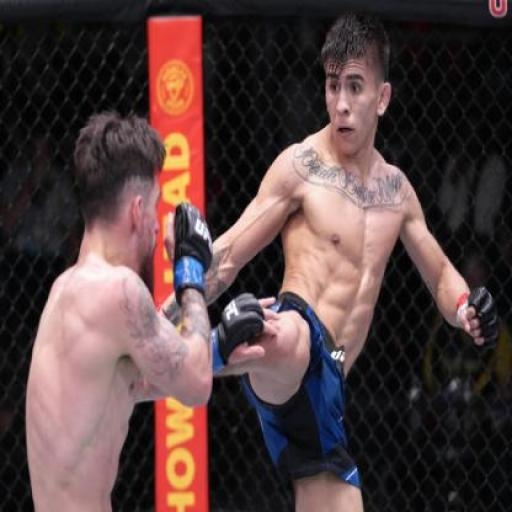Fighting: (29, 2, 504, 512)
